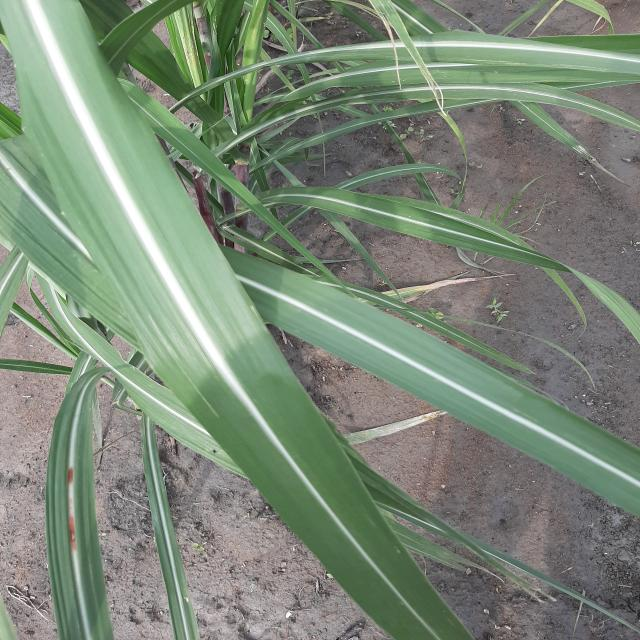Sugarcane: (1, 1, 638, 638)
